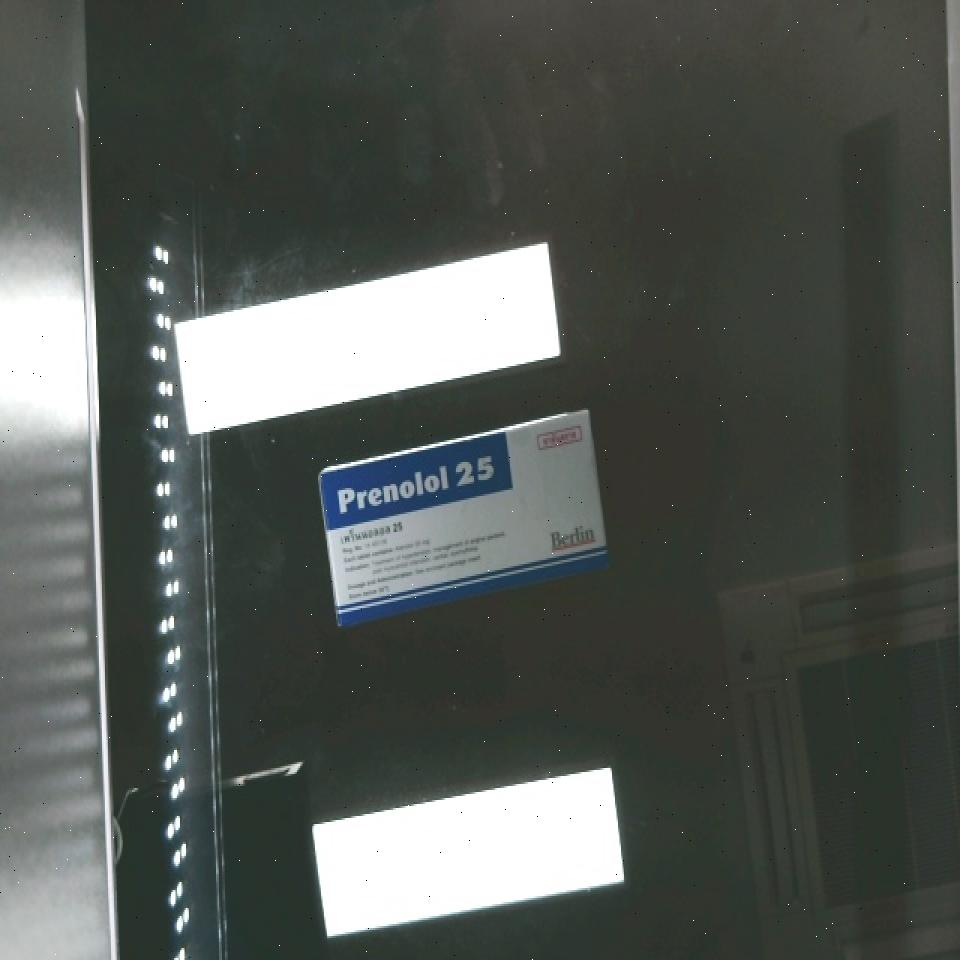medicine_box: (302, 409, 623, 624)
medicine_label_obb: (320, 434, 516, 528)
